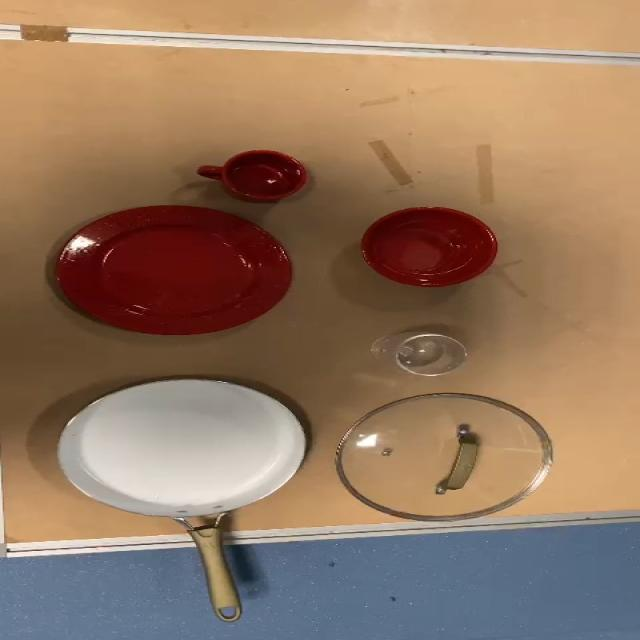Bowl: (362, 205, 496, 288)
Glass: (388, 328, 458, 378)
Plate: (62, 202, 283, 345)
cup: (197, 148, 310, 203)
pot: (60, 372, 312, 620)
